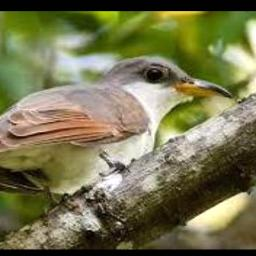Cuckoo: (0, 55, 234, 206)
